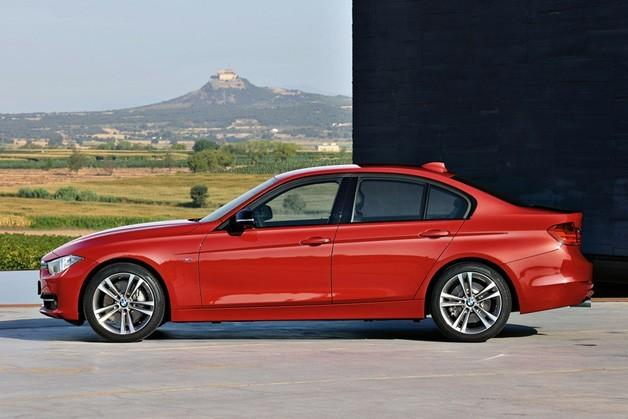Sedan: (36, 159, 595, 343)
